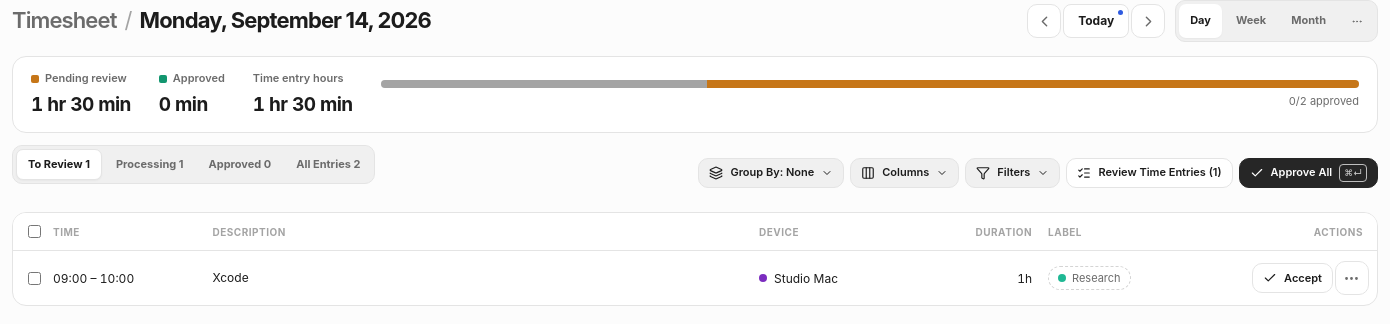
Test: TimesheetScreen › puts the live entry under Processing and blocks approval
The width and height of the screenshot is (1390, 324).
Step 1. Click the tab "Processing 1" → (150, 165), box [105,150,195,180]
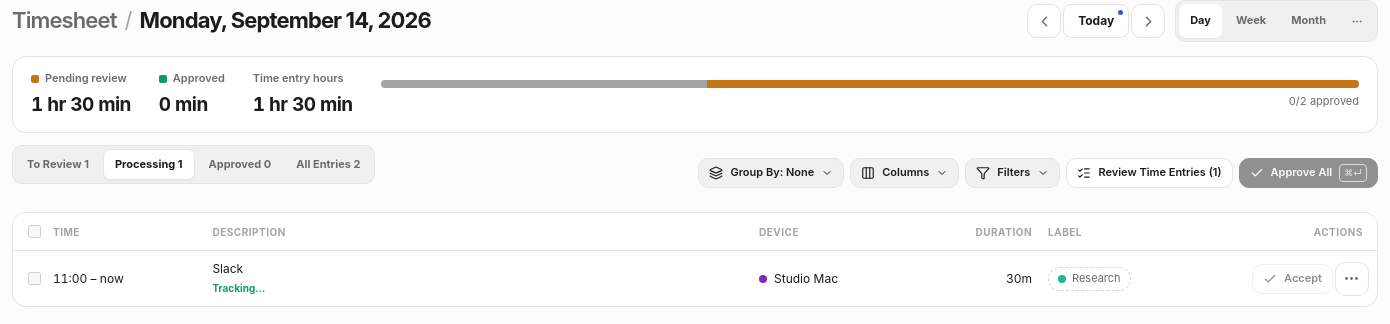
Expected: the row with test id "timesheet-row-block-3-4" shows "Tracking…", [212,282,265,294]
Expected: the button "Accept" is disabled, [1252,264,1333,294]
